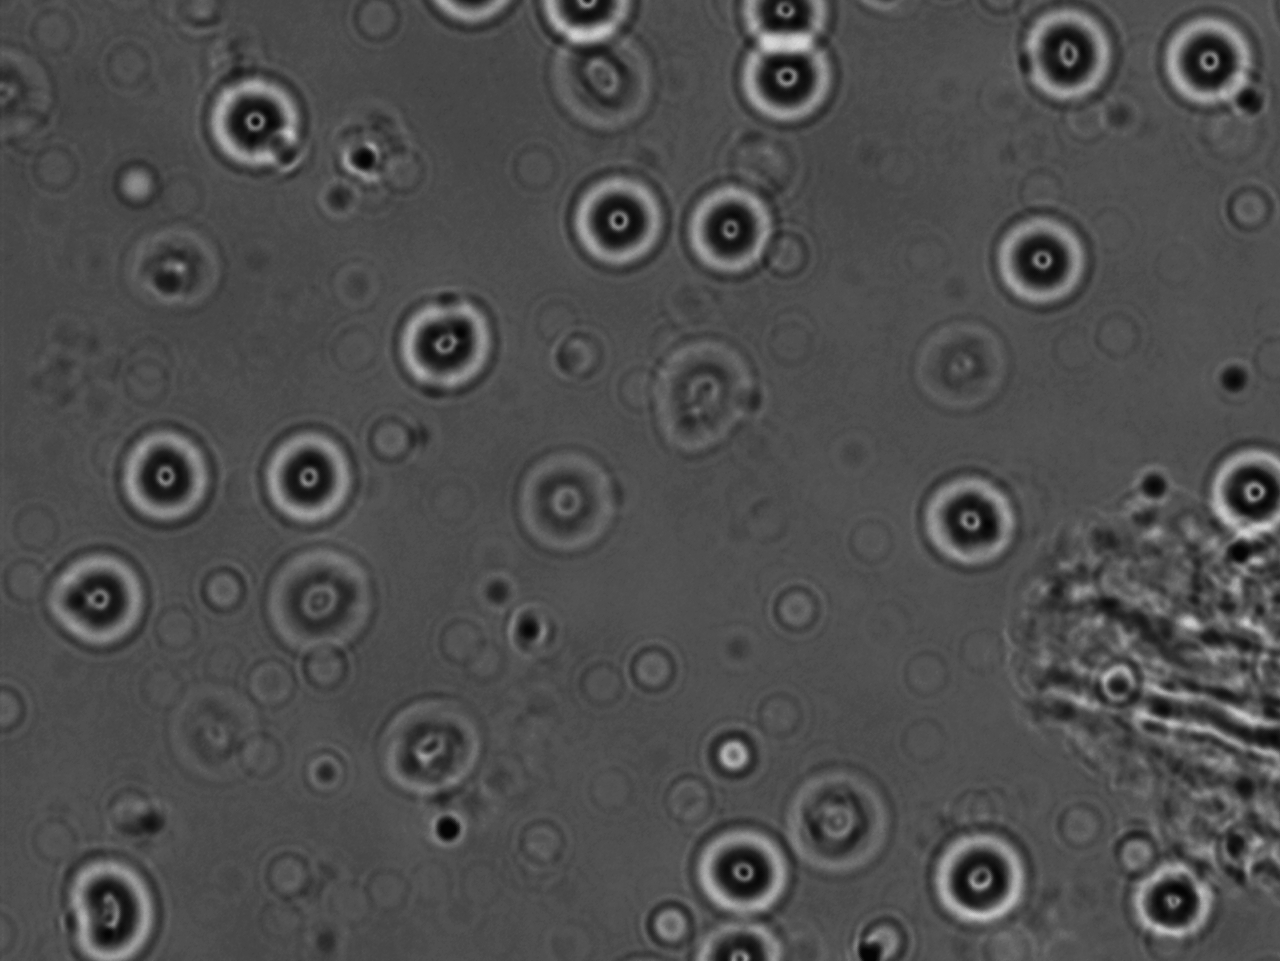depth:-8: (107, 426, 249, 540), (52, 837, 182, 960), (383, 286, 501, 405), (989, 201, 1103, 319), (1150, 10, 1273, 118), (557, 170, 686, 271), (243, 419, 370, 521), (195, 69, 317, 175), (911, 468, 1030, 575), (928, 822, 1040, 935), (52, 542, 162, 656), (681, 815, 799, 917), (1010, 8, 1122, 115), (672, 173, 778, 283), (727, 36, 845, 134), (1122, 841, 1223, 950), (1196, 430, 1280, 549)
